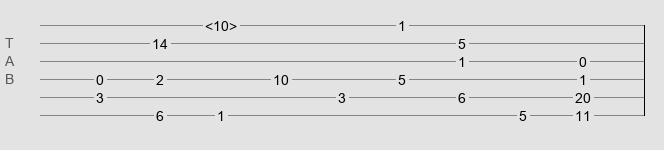0: (96, 72, 104, 82), (579, 54, 587, 64)
1: (217, 108, 225, 118), (398, 18, 406, 28), (458, 54, 466, 64), (579, 72, 587, 82)
10: (273, 72, 289, 82)
11: (575, 108, 591, 118)
14: (152, 36, 168, 46)
2: (156, 72, 164, 82)
20: (575, 90, 591, 100)
3: (96, 90, 104, 100), (338, 90, 346, 100)
5: (398, 72, 406, 82), (458, 36, 466, 46), (519, 108, 527, 118)
6: (156, 108, 164, 118), (458, 90, 466, 100)
harmonic: (205, 18, 237, 28)
